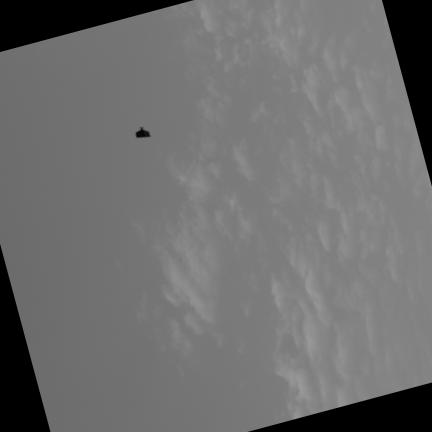Shahed: (135, 126, 149, 136)
